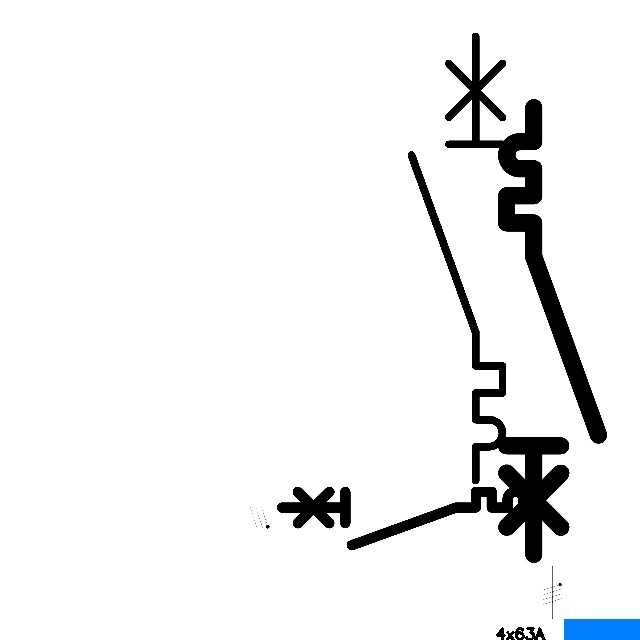interruptor_termomagnetico: (495, 96, 610, 566), (400, 25, 514, 492), (275, 485, 550, 552)
